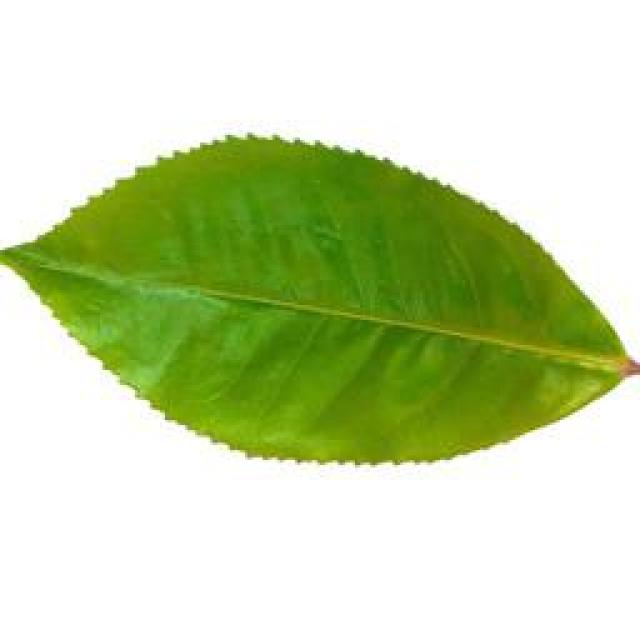Healthy: (1, 140, 639, 470)
